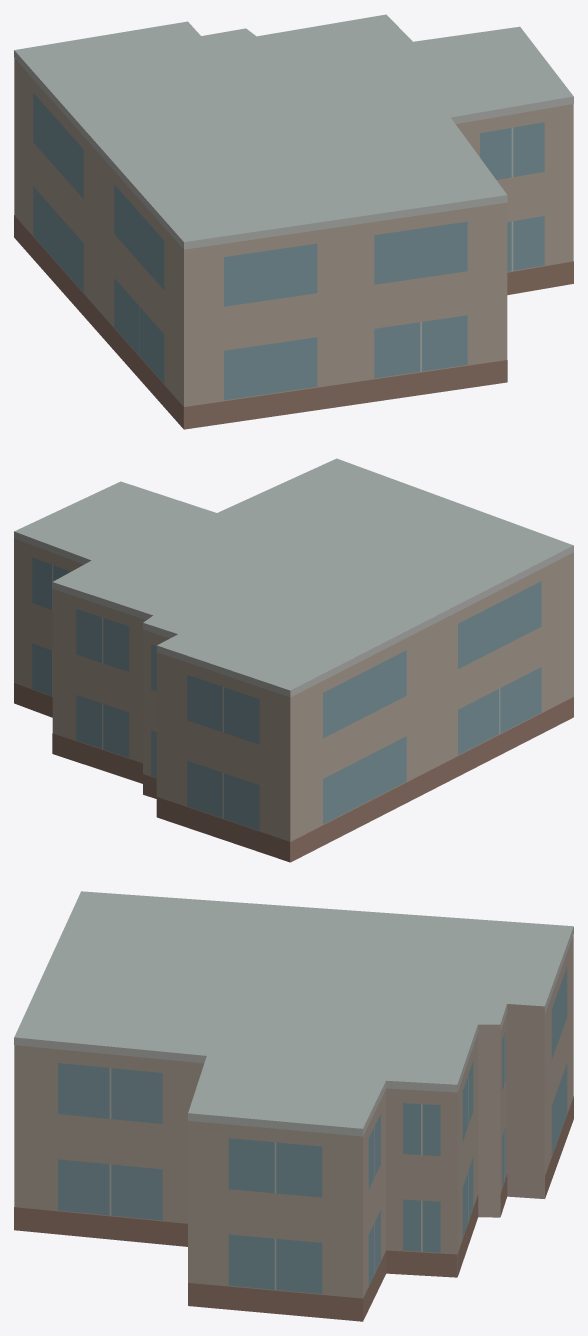
File: survey-upis-32894423.glb
The picture shows the model from 3 angles, top to bottom: view 1: azimuth 30°, elevation 25°; view 2: azimuth 150°, elevation 25°; view 3: azimuth 270°, elevation 25°; orthographic projection. The views are drawn at different scales.
Visible parts, largest first — view 1: survey-upis-32894423.tmp; view 2: survey-upis-32894423.tmp; view 3: survey-upis-32894423.tmp.
Boxes of the visible parts, <box> form: survey-upis-32894423.tmp: <box>14,14,573,429</box>; survey-upis-32894423.tmp: <box>14,458,573,862</box>; survey-upis-32894423.tmp: <box>14,891,573,1321</box>.
Size of the model in its own units: 16.13 by 6.1 by 16.06.
